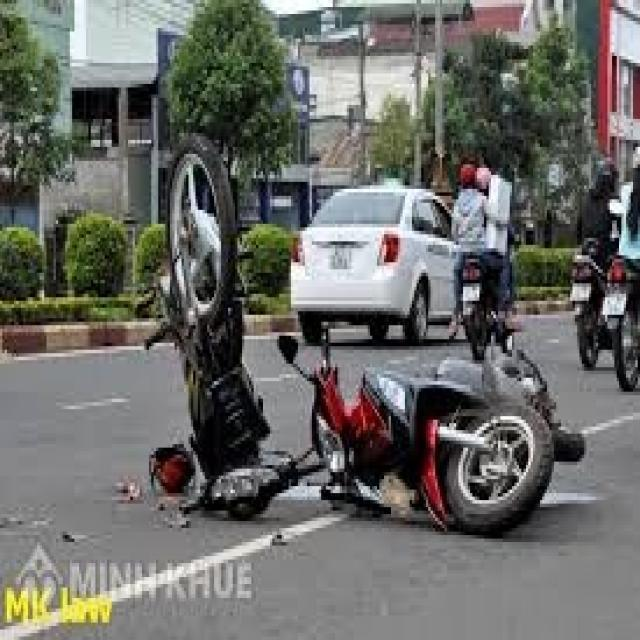accident: (115, 135, 594, 571)
